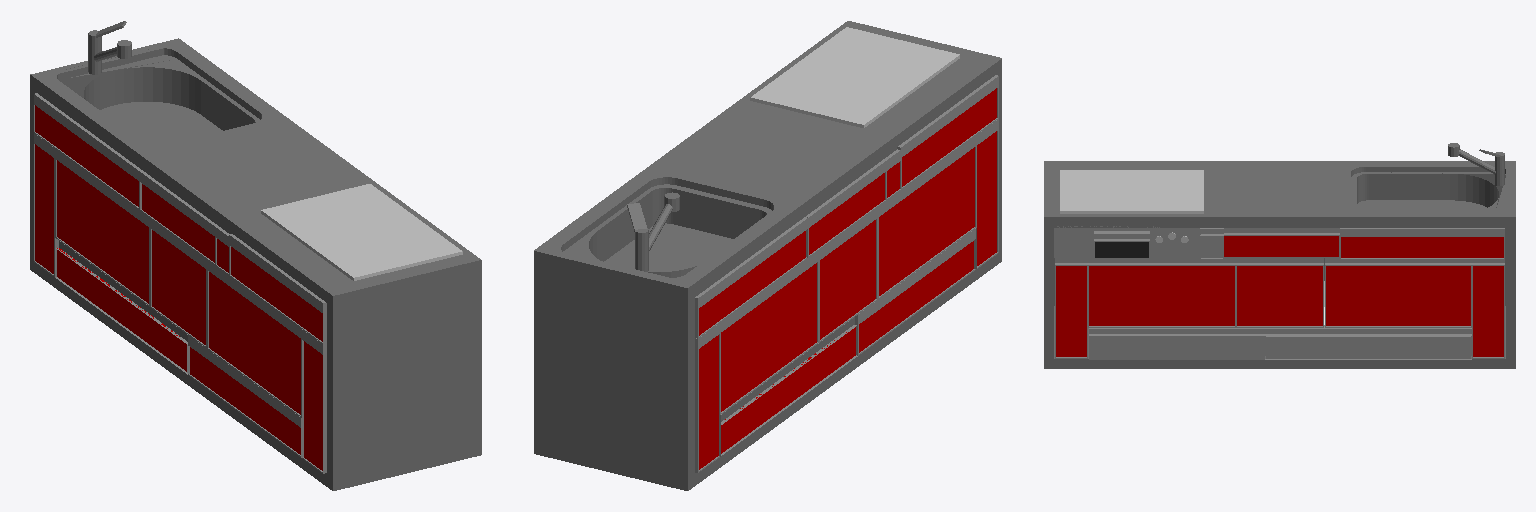
--- Render facts (derived) ---
3 views of the same robot in one strip: view 1: azimuth 30°, elevation 25°; view 2: azimuth 150°, elevation 25°; view 3: azimuth 270°, elevation 25° (orthographic).
Model room602-kitchen_fixed with 20 links and 19 joints (7 revolute, 11 prismatic, 1 fixed), rooted at world, posed all joints at 0.
Links seen in each view (by area): view 1: ROOT_link; view 2: ROOT_link, TAP-TUBE_link; view 3: ROOT_link, ROOM602-KITCHEN-BODYSET6_link, ROOM602-KITCHEN-BODYSET8_link, ROOM602-KITCHEN-BODYSET3_link, ROOM602-KITCHEN-BODYSET7_link, ROOM602-KITCHEN-BODYSET2_link, ROOM602-KITCHEN-BODYSET10_link, ROOM602-KITCHEN-BODYSET4_link, ROOM602-KITCHEN-BODYSET5_link, ROOM602-KITCHEN-BODYSET11_link, ROOM602-KITCHEN-BODYSET9_link.
Boxes of the visible links, left/top/right/bottom form: ROOT_link: left=30, top=30, right=481, bottom=490; ROOT_link: left=534, top=21, right=1001, bottom=490; TAP-TUBE_link: left=649, top=192, right=679, bottom=250; ROOT_link: left=1044, top=152, right=1515, bottom=368; ROOM602-KITCHEN-BODYSET6_link: left=1088, top=258, right=1235, bottom=327; ROOM602-KITCHEN-BODYSET8_link: left=1325, top=258, right=1471, bottom=327; ROOM602-KITCHEN-BODYSET3_link: left=1265, top=281, right=1471, bottom=359; ROOM602-KITCHEN-BODYSET7_link: left=1236, top=258, right=1323, bottom=327; ROOM602-KITCHEN-BODYSET2_link: left=1089, top=328, right=1264, bottom=359; ROOM602-KITCHEN-BODYSET10_link: left=1224, top=228, right=1339, bottom=257; ROOM602-KITCHEN-BODYSET4_link: left=1055, top=258, right=1087, bottom=358; ROOM602-KITCHEN-BODYSET5_link: left=1472, top=259, right=1504, bottom=358; ROOM602-KITCHEN-BODYSET11_link: left=1094, top=231, right=1149, bottom=260; ROOM602-KITCHEN-BODYSET9_link: left=1200, top=228, right=1223, bottom=258.
Bounding box of the posed robot: 0.71 × 2.4 × 1.07 m (x, y, z).
Meshes: 19 distinct files referenced, 19 mesh visuals loaded (19 Collada DAE).

URDF robot description (room602-kitchen_fixed):
<?xml version="1.0"?>
<robot name="room602-kitchen_fixed"
       xmlns:xi="http://www.w3.org/2001/XInclude"
       >
  <gazebo>
    <static>false</static>
  </gazebo>
  <link name="ROOT_link">
    <visual>
      <origin xyz="0 0 0" rpy="0 -0 0"/>
      <geometry>
        <mesh filename="model://room602-kitchen/meshes/ROOT_link_mesh.dae" scale="1 1 1" />
      </geometry>
    </visual>
    <collision>
      <origin xyz="0 0 0" rpy="0 -0 0"/>
      <geometry>
        <mesh filename="model://room602-kitchen/meshes/ROOT_link_mesh.dae" scale="1 1 1" />
      </geometry>
    </collision>
    <inertial>
      <mass value="0.001" />
      <origin xyz="0 0 0" rpy="0 -0 0"/>
      <inertia ixx="1e-03" ixy="0" ixz="0" iyy="1e-03" iyz="0" izz="1e-03"/>
    </inertial>
  </link>
  <gazebo reference="ROOT_link">
    <mu1>0.9</mu1>
    <mu2>0.9</mu2>
  </gazebo>
  <link name="ROOM602-KITCHEN-BODYSET16_link">
    <visual>
      <origin xyz="0.34 -0.485 0.73" rpy="0 -0 0"/>
      <geometry>
        <mesh filename="model://room602-kitchen/meshes/ROOM602-KITCHEN-BODYSET16_link_mesh.dae" scale="1 1 1" />
      </geometry>
    </visual>
    <collision>
      <origin xyz="0.34 -0.485 0.73" rpy="0 -0 0"/>
      <geometry>
        <mesh filename="model://room602-kitchen/meshes/ROOM602-KITCHEN-BODYSET16_link_mesh.dae" scale="1 1 1" />
      </geometry>
    </collision>
    <inertial>
      <mass value="0.001" />
      <origin xyz="0 0 0" rpy="0 -0 0"/>
      <inertia ixx="1e-03" ixy="0" ixz="0" iyy="1e-03" iyz="0" izz="1e-03"/>
    </inertial>
  </link>
  <gazebo reference="ROOM602-KITCHEN-BODYSET16_link">
    <mu1>0.9</mu1>
    <mu2>0.9</mu2>
  </gazebo>
  <link name="ROOM602-KITCHEN-BODYSET17_link">
    <visual>
      <origin xyz="0.005 0 0" rpy="1.5708 1.5708 -1.5708"/>
      <geometry>
        <mesh filename="model://room602-kitchen/meshes/ROOM602-KITCHEN-BODYSET17_link_mesh.dae" scale="1 1 1" />
      </geometry>
    </visual>
    <collision>
      <origin xyz="0.005 0 0" rpy="1.5708 1.5708 -1.5708"/>
      <geometry>
        <mesh filename="model://room602-kitchen/meshes/ROOM602-KITCHEN-BODYSET17_link_mesh.dae" scale="1 1 1" />
      </geometry>
    </collision>
    <inertial>
      <mass value="0.001" />
      <origin xyz="0 0 0" rpy="0 -0 0"/>
      <inertia ixx="1e-09" ixy="1.30938e-41" ixz="0" iyy="1e-09" iyz="-4.59177e-41" izz="1e-09"/>
    </inertial>
  </link>
  <gazebo reference="ROOM602-KITCHEN-BODYSET17_link">
    <mu1>0.9</mu1>
    <mu2>0.9</mu2>
  </gazebo>
  <link name="ROOM602-KITCHEN-BODYSET14_link">
    <visual>
      <origin xyz="0.34 -0.55 0.75" rpy="0 -0 0"/>
      <geometry>
        <mesh filename="model://room602-kitchen/meshes/ROOM602-KITCHEN-BODYSET14_link_mesh.dae" scale="1 1 1" />
      </geometry>
    </visual>
    <collision>
      <origin xyz="0.34 -0.55 0.75" rpy="0 -0 0"/>
      <geometry>
        <mesh filename="model://room602-kitchen/meshes/ROOM602-KITCHEN-BODYSET14_link_mesh.dae" scale="1 1 1" />
      </geometry>
    </collision>
    <inertial>
      <mass value="0.001" />
      <origin xyz="0 0 0" rpy="0 -0 0"/>
      <inertia ixx="1e-03" ixy="0" ixz="0" iyy="1e-03" iyz="0" izz="1e-03"/>
    </inertial>
  </link>
  <gazebo reference="ROOM602-KITCHEN-BODYSET14_link">
    <mu1>0.9</mu1>
    <mu2>0.9</mu2>
  </gazebo>
  <link name="ROOM602-KITCHEN-BODYSET15_link">
    <visual>
      <origin xyz="0.005 0 0" rpy="1.5708 1.5708 -1.5708"/>
      <geometry>
        <mesh filename="model://room602-kitchen/meshes/ROOM602-KITCHEN-BODYSET15_link_mesh.dae" scale="1 1 1" />
      </geometry>
    </visual>
    <collision>
      <origin xyz="0.005 0 0" rpy="1.5708 1.5708 -1.5708"/>
      <geometry>
        <mesh filename="model://room602-kitchen/meshes/ROOM602-KITCHEN-BODYSET15_link_mesh.dae" scale="1 1 1" />
      </geometry>
    </collision>
    <inertial>
      <mass value="0.001" />
      <origin xyz="0 0 0" rpy="0 -0 0"/>
      <inertia ixx="1e-09" ixy="1.30938e-41" ixz="0" iyy="1e-09" iyz="-4.59177e-41" izz="1e-09"/>
    </inertial>
  </link>
  <gazebo reference="ROOM602-KITCHEN-BODYSET15_link">
    <mu1>0.9</mu1>
    <mu2>0.9</mu2>
  </gazebo>
  <link name="ROOM602-KITCHEN-BODYSET12_link">
    <visual>
      <origin xyz="0.34 -0.615 0.73" rpy="0 -0 0"/>
      <geometry>
        <mesh filename="model://room602-kitchen/meshes/ROOM602-KITCHEN-BODYSET12_link_mesh.dae" scale="1 1 1" />
      </geometry>
    </visual>
    <collision>
      <origin xyz="0.34 -0.615 0.73" rpy="0 -0 0"/>
      <geometry>
        <mesh filename="model://room602-kitchen/meshes/ROOM602-KITCHEN-BODYSET12_link_mesh.dae" scale="1 1 1" />
      </geometry>
    </collision>
    <inertial>
      <mass value="0.001" />
      <origin xyz="0 0 0" rpy="0 -0 0"/>
      <inertia ixx="1e-03" ixy="0" ixz="0" iyy="1e-03" iyz="0" izz="1e-03"/>
    </inertial>
  </link>
  <gazebo reference="ROOM602-KITCHEN-BODYSET12_link">
    <mu1>0.9</mu1>
    <mu2>0.9</mu2>
  </gazebo>
  <link name="ROOM602-KITCHEN-BODYSET13_link">
    <visual>
      <origin xyz="0.005 0 0" rpy="1.5708 1.5708 -1.5708"/>
      <geometry>
        <mesh filename="model://room602-kitchen/meshes/ROOM602-KITCHEN-BODYSET13_link_mesh.dae" scale="1 1 1" />
      </geometry>
    </visual>
    <collision>
      <origin xyz="0.005 0 0" rpy="1.5708 1.5708 -1.5708"/>
      <geometry>
        <mesh filename="model://room602-kitchen/meshes/ROOM602-KITCHEN-BODYSET13_link_mesh.dae" scale="1 1 1" />
      </geometry>
    </collision>
    <inertial>
      <mass value="0.001" />
      <origin xyz="0 0 0" rpy="0 -0 0"/>
      <inertia ixx="1e-09" ixy="1.30938e-41" ixz="0" iyy="1e-09" iyz="-4.59177e-41" izz="1e-09"/>
    </inertial>
  </link>
  <gazebo reference="ROOM602-KITCHEN-BODYSET13_link">
    <mu1>0.9</mu1>
    <mu2>0.9</mu2>
  </gazebo>
  <link name="ROOM602-KITCHEN-BODYSET7_link">
    <visual>
      <origin xyz="0.025 0.001 0.405" rpy="0 -0 0"/>
      <geometry>
        <mesh filename="model://room602-kitchen/meshes/ROOM602-KITCHEN-BODYSET7_link_mesh.dae" scale="1 1 1" />
      </geometry>
    </visual>
    <collision>
      <origin xyz="0.025 0.001 0.405" rpy="0 -0 0"/>
      <geometry>
        <mesh filename="model://room602-kitchen/meshes/ROOM602-KITCHEN-BODYSET7_link_mesh.dae" scale="1 1 1" />
      </geometry>
    </collision>
    <inertial>
      <mass value="0.001" />
      <origin xyz="0 0 0" rpy="0 -0 0"/>
      <inertia ixx="1e-03" ixy="0" ixz="0" iyy="1e-03" iyz="0" izz="1e-03"/>
    </inertial>
  </link>
  <gazebo reference="ROOM602-KITCHEN-BODYSET7_link">
    <mu1>0.9</mu1>
    <mu2>0.9</mu2>
  </gazebo>
  <link name="ROOM602-KITCHEN-BODYSET10_link">
    <visual>
      <origin xyz="0.025 0.006 0.685" rpy="0 -0 0"/>
      <geometry>
        <mesh filename="model://room602-kitchen/meshes/ROOM602-KITCHEN-BODYSET10_link_mesh.dae" scale="1 1 1" />
      </geometry>
    </visual>
    <collision>
      <origin xyz="0.025 0.006 0.685" rpy="0 -0 0"/>
      <geometry>
        <mesh filename="model://room602-kitchen/meshes/ROOM602-KITCHEN-BODYSET10_link_mesh.dae" scale="1 1 1" />
      </geometry>
    </collision>
    <inertial>
      <mass value="0.001" />
      <origin xyz="0 0 0" rpy="0 -0 0"/>
      <inertia ixx="1e-03" ixy="0" ixz="0" iyy="1e-03" iyz="0" izz="1e-03"/>
    </inertial>
  </link>
  <gazebo reference="ROOM602-KITCHEN-BODYSET10_link">
    <mu1>0.9</mu1>
    <mu2>0.9</mu2>
  </gazebo>
  <link name="ROOM602-KITCHEN-BODYSET11_link">
    <visual>
      <origin xyz="0.025 -0.805 0.66" rpy="0 -0 0"/>
      <geometry>
        <mesh filename="model://room602-kitchen/meshes/ROOM602-KITCHEN-BODYSET11_link_mesh.dae" scale="1 1 1" />
      </geometry>
    </visual>
    <collision>
      <origin xyz="0.025 -0.805 0.66" rpy="0 -0 0"/>
      <geometry>
        <mesh filename="model://room602-kitchen/meshes/ROOM602-KITCHEN-BODYSET11_link_mesh.dae" scale="1 1 1" />
      </geometry>
    </collision>
    <inertial>
      <mass value="0.001" />
      <origin xyz="0 0 0" rpy="0 -0 0"/>
      <inertia ixx="1e-03" ixy="0" ixz="0" iyy="1e-03" iyz="0" izz="1e-03"/>
    </inertial>
  </link>
  <gazebo reference="ROOM602-KITCHEN-BODYSET11_link">
    <mu1>0.9</mu1>
    <mu2>0.9</mu2>
  </gazebo>
  <link name="ROOM602-KITCHEN-BODYSET2_link">
    <visual>
      <origin xyz="0.025 -0.524 0.137" rpy="0 -0 0"/>
      <geometry>
        <mesh filename="model://room602-kitchen/meshes/ROOM602-KITCHEN-BODYSET2_link_mesh.dae" scale="1 1 1" />
      </geometry>
    </visual>
    <collision>
      <origin xyz="0.025 -0.524 0.137" rpy="0 -0 0"/>
      <geometry>
        <mesh filename="model://room602-kitchen/meshes/ROOM602-KITCHEN-BODYSET2_link_mesh.dae" scale="1 1 1" />
      </geometry>
    </collision>
    <inertial>
      <mass value="0.001" />
      <origin xyz="0 0 0" rpy="0 -0 0"/>
      <inertia ixx="1e-03" ixy="0" ixz="0" iyy="1e-03" iyz="0" izz="1e-03"/>
    </inertial>
  </link>
  <gazebo reference="ROOM602-KITCHEN-BODYSET2_link">
    <mu1>0.9</mu1>
    <mu2>0.9</mu2>
  </gazebo>
  <link name="ROOM602-KITCHEN-BODYSET6_link">
    <visual>
      <origin xyz="0.025 -0.601 0.405" rpy="0 -0 0"/>
      <geometry>
        <mesh filename="model://room602-kitchen/meshes/ROOM602-KITCHEN-BODYSET6_link_mesh.dae" scale="1 1 1" />
      </geometry>
    </visual>
    <collision>
      <origin xyz="0.025 -0.601 0.405" rpy="0 -0 0"/>
      <geometry>
        <mesh filename="model://room602-kitchen/meshes/ROOM602-KITCHEN-BODYSET6_link_mesh.dae" scale="1 1 1" />
      </geometry>
    </collision>
    <inertial>
      <mass value="0.001" />
      <origin xyz="0 0 0" rpy="0 -0 0"/>
      <inertia ixx="1e-03" ixy="0" ixz="0" iyy="1e-03" iyz="0" izz="1e-03"/>
    </inertial>
  </link>
  <gazebo reference="ROOM602-KITCHEN-BODYSET6_link">
    <mu1>0.9</mu1>
    <mu2>0.9</mu2>
  </gazebo>
  <link name="ROOM602-KITCHEN-BODYSET4_link">
    <visual>
      <origin xyz="0.315 -1.123 0.06" rpy="0 -0 0"/>
      <geometry>
        <mesh filename="model://room602-kitchen/meshes/ROOM602-KITCHEN-BODYSET4_link_mesh.dae" scale="1 1 1" />
      </geometry>
    </visual>
    <collision>
      <origin xyz="0.315 -1.123 0.06" rpy="0 -0 0"/>
      <geometry>
        <mesh filename="model://room602-kitchen/meshes/ROOM602-KITCHEN-BODYSET4_link_mesh.dae" scale="1 1 1" />
      </geometry>
    </collision>
    <inertial>
      <mass value="0.001" />
      <origin xyz="0 0 0" rpy="0 -0 0"/>
      <inertia ixx="1e-03" ixy="0" ixz="0" iyy="1e-03" iyz="0" izz="1e-03"/>
    </inertial>
  </link>
  <gazebo reference="ROOM602-KITCHEN-BODYSET4_link">
    <mu1>0.9</mu1>
    <mu2>0.9</mu2>
  </gazebo>
  <link name="ROOM602-KITCHEN-BODYSET9_link">
    <visual>
      <origin xyz="0.025 -0.346 0.7" rpy="0 -0 0"/>
      <geometry>
        <mesh filename="model://room602-kitchen/meshes/ROOM602-KITCHEN-BODYSET9_link_mesh.dae" scale="1 1 1" />
      </geometry>
    </visual>
    <collision>
      <origin xyz="0.025 -0.346 0.7" rpy="0 -0 0"/>
      <geometry>
        <mesh filename="model://room602-kitchen/meshes/ROOM602-KITCHEN-BODYSET9_link_mesh.dae" scale="1 1 1" />
      </geometry>
    </collision>
    <inertial>
      <mass value="0.001" />
      <origin xyz="0 0 0" rpy="0 -0 0"/>
      <inertia ixx="1e-03" ixy="0" ixz="0" iyy="1e-03" iyz="0" izz="1e-03"/>
    </inertial>
  </link>
  <gazebo reference="ROOM602-KITCHEN-BODYSET9_link">
    <mu1>0.9</mu1>
    <mu2>0.9</mu2>
  </gazebo>
  <link name="ROOM602-KITCHEN-BODYSET3_link">
    <visual>
      <origin xyz="0.025 0.451 0.137" rpy="0 -0 0"/>
      <geometry>
        <mesh filename="model://room602-kitchen/meshes/ROOM602-KITCHEN-BODYSET3_link_mesh.dae" scale="1 1 1" />
      </geometry>
    </visual>
    <collision>
      <origin xyz="0.025 0.451 0.137" rpy="0 -0 0"/>
      <geometry>
        <mesh filename="model://room602-kitchen/meshes/ROOM602-KITCHEN-BODYSET3_link_mesh.dae" scale="1 1 1" />
      </geometry>
    </collision>
    <inertial>
      <mass value="0.001" />
      <origin xyz="0 0 0" rpy="0 -0 0"/>
      <inertia ixx="1e-03" ixy="0" ixz="0" iyy="1e-03" iyz="0" izz="1e-03"/>
    </inertial>
  </link>
  <gazebo reference="ROOM602-KITCHEN-BODYSET3_link">
    <mu1>0.9</mu1>
    <mu2>0.9</mu2>
  </gazebo>
  <link name="ROOM602-KITCHEN-BODYSET8_link">
    <visual>
      <origin xyz="0.025 0.603 0.405" rpy="0 -0 0"/>
      <geometry>
        <mesh filename="model://room602-kitchen/meshes/ROOM602-KITCHEN-BODYSET8_link_mesh.dae" scale="1 1 1" />
      </geometry>
    </visual>
    <collision>
      <origin xyz="0.025 0.603 0.405" rpy="0 -0 0"/>
      <geometry>
        <mesh filename="model://room602-kitchen/meshes/ROOM602-KITCHEN-BODYSET8_link_mesh.dae" scale="1 1 1" />
      </geometry>
    </collision>
    <inertial>
      <mass value="0.001" />
      <origin xyz="0 0 0" rpy="0 -0 0"/>
      <inertia ixx="1e-03" ixy="0" ixz="0" iyy="1e-03" iyz="0" izz="1e-03"/>
    </inertial>
  </link>
  <gazebo reference="ROOM602-KITCHEN-BODYSET8_link">
    <mu1>0.9</mu1>
    <mu2>0.9</mu2>
  </gazebo>
  <link name="ROOM602-KITCHEN-BODYSET5_link">
    <visual>
      <origin xyz="0.315 1.123 0.06" rpy="0 -0 0"/>
      <geometry>
        <mesh filename="model://room602-kitchen/meshes/ROOM602-KITCHEN-BODYSET5_link_mesh.dae" scale="1 1 1" />
      </geometry>
    </visual>
    <collision>
      <origin xyz="0.315 1.123 0.06" rpy="0 -0 0"/>
      <geometry>
        <mesh filename="model://room602-kitchen/meshes/ROOM602-KITCHEN-BODYSET5_link_mesh.dae" scale="1 1 1" />
      </geometry>
    </collision>
    <inertial>
      <mass value="0.001" />
      <origin xyz="0 0 0" rpy="0 -0 0"/>
      <inertia ixx="1e-03" ixy="0" ixz="0" iyy="1e-03" iyz="0" izz="1e-03"/>
    </inertial>
  </link>
  <gazebo reference="ROOM602-KITCHEN-BODYSET5_link">
    <mu1>0.9</mu1>
    <mu2>0.9</mu2>
  </gazebo>
  <link name="TAP-HANDLE-BODY_link">
    <visual>
      <origin xyz="-0.0826664 1.11267 1.00531" rpy="1.26878e-07 -0.488693 -0.785399"/>
      <geometry>
        <mesh filename="model://room602-kitchen/meshes/TAP-HANDLE-BODY_link_mesh.dae" scale="1 1 1" />
      </geometry>
    </visual>
    <collision>
      <origin xyz="-0.0826664 1.11267 1.00531" rpy="1.26878e-07 -0.488693 -0.785399"/>
      <geometry>
        <mesh filename="model://room602-kitchen/meshes/TAP-HANDLE-BODY_link_mesh.dae" scale="1 1 1" />
      </geometry>
    </collision>
    <inertial>
      <mass value="0.001" />
      <origin xyz="0 0 0" rpy="0 -0 0"/>
      <inertia ixx="1e-09" ixy="-1.40233e-32" ixz="0" iyy="1e-09" iyz="-9.86076e-32" izz="1e-09"/>
    </inertial>
  </link>
  <gazebo reference="TAP-HANDLE-BODY_link">
    <mu1>0.9</mu1>
    <mu2>0.9</mu2>
  </gazebo>
  <link name="TAP-TUBE_link">
    <visual>
      <origin xyz="-0.09 1.12 0.84" rpy="0 0 -1.5708"/>
      <geometry>
        <mesh filename="model://room602-kitchen/meshes/TAP-TUBE_link_mesh.dae" scale="1 1 1" />
      </geometry>
    </visual>
    <collision>
      <origin xyz="-0.09 1.12 0.84" rpy="0 0 -1.5708"/>
      <geometry>
        <mesh filename="model://room602-kitchen/meshes/TAP-TUBE_link_mesh.dae" scale="1 1 1" />
      </geometry>
    </collision>
    <inertial>
      <mass value="0.001" />
      <origin xyz="0 0 0" rpy="0 -0 0"/>
      <inertia ixx="1e-09" ixy="-7.4988e-42" ixz="0" iyy="1e-09" iyz="0" izz="1e-09"/>
    </inertial>
  </link>
  <gazebo reference="TAP-TUBE_link">
    <mu1>0.9</mu1>
    <mu2>0.9</mu2>
  </gazebo>
  <joint name="BUTTON0-BODY-JOINT-1" type="prismatic">
    <parent link="ROOT_link"/>
    <child  link="ROOM602-KITCHEN-BODYSET16_link"/>
    <origin xyz="0.34 -0.485 0.73" rpy="0 -0 0 "/>
    <axis   xyz="1 0 0"/>
    <limit lower="-0.09" upper="0.09" effort="100" velocity="0.01" />
    <dynamics damping="0.2" friction="0" />
  </joint>
  <transmission type="pr2_mechanism_model/SimpleTransmission" name="BUTTON0-BODY-JOINT-1_trans" >
    <actuator name="BUTTON0-BODY-JOINT-1_motor" />
    <joint name="BUTTON0-BODY-JOINT-1" />
    <mechanicalReduction>1</mechanicalReduction>
  </transmission>
  <gazebo reference="BUTTON0-BODY-JOINT-1">
    <cfmDamping>0.4</cfmDamping>
  </gazebo>
  <joint name="BUTTON0-BODY-JOINT-2" type="revolute">
    <parent link="ROOM602-KITCHEN-BODYSET16_link"/>
    <child  link="ROOM602-KITCHEN-BODYSET17_link"/>
    <origin xyz="0.005 0 0" rpy="1.5708 1.5708 -1.5708 "/>
    <axis   xyz="0 0 1"/>
    <limit lower="-1.5708" upper="1.5708" effort="100" velocity="0.5" />
    <dynamics damping="0.2" friction="0" />
  </joint>
  <transmission type="pr2_mechanism_model/SimpleTransmission" name="BUTTON0-BODY-JOINT-2_trans" >
    <actuator name="BUTTON0-BODY-JOINT-2_motor" />
    <joint name="BUTTON0-BODY-JOINT-2" />
    <mechanicalReduction>1</mechanicalReduction>
  </transmission>
  <gazebo reference="BUTTON0-BODY-JOINT-2">
    <cfmDamping>0.4</cfmDamping>
  </gazebo>
  <joint name="BUTTON1-BODY-JOINT-1" type="prismatic">
    <parent link="ROOT_link"/>
    <child  link="ROOM602-KITCHEN-BODYSET14_link"/>
    <origin xyz="0.34 -0.55 0.75" rpy="0 -0 0 "/>
    <axis   xyz="1 0 0"/>
    <limit lower="-0.09" upper="0.09" effort="100" velocity="0.01" />
    <dynamics damping="0.2" friction="0" />
  </joint>
  <transmission type="pr2_mechanism_model/SimpleTransmission" name="BUTTON1-BODY-JOINT-1_trans" >
    <actuator name="BUTTON1-BODY-JOINT-1_motor" />
    <joint name="BUTTON1-BODY-JOINT-1" />
    <mechanicalReduction>1</mechanicalReduction>
  </transmission>
  <gazebo reference="BUTTON1-BODY-JOINT-1">
    <cfmDamping>0.4</cfmDamping>
  </gazebo>
  <joint name="BUTTON1-BODY-JOINT-2" type="revolute">
    <parent link="ROOM602-KITCHEN-BODYSET14_link"/>
    <child  link="ROOM602-KITCHEN-BODYSET15_link"/>
    <origin xyz="0.005 0 0" rpy="1.5708 1.5708 -1.5708 "/>
    <axis   xyz="0 0 1"/>
    <limit lower="-1.5708" upper="1.5708" effort="100" velocity="0.5" />
    <dynamics damping="0.2" friction="0" />
  </joint>
  <transmission type="pr2_mechanism_model/SimpleTransmission" name="BUTTON1-BODY-JOINT-2_trans" >
    <actuator name="BUTTON1-BODY-JOINT-2_motor" />
    <joint name="BUTTON1-BODY-JOINT-2" />
    <mechanicalReduction>1</mechanicalReduction>
  </transmission>
  <gazebo reference="BUTTON1-BODY-JOINT-2">
    <cfmDamping>0.4</cfmDamping>
  </gazebo>
  <joint name="BUTTON2-BODY-JOINT-1" type="prismatic">
    <parent link="ROOT_link"/>
    <child  link="ROOM602-KITCHEN-BODYSET12_link"/>
    <origin xyz="0.34 -0.615 0.73" rpy="0 -0 0 "/>
    <axis   xyz="1 0 0"/>
    <limit lower="-0.09" upper="0.09" effort="100" velocity="0.01" />
    <dynamics damping="0.2" friction="0" />
  </joint>
  <transmission type="pr2_mechanism_model/SimpleTransmission" name="BUTTON2-BODY-JOINT-1_trans" >
    <actuator name="BUTTON2-BODY-JOINT-1_motor" />
    <joint name="BUTTON2-BODY-JOINT-1" />
    <mechanicalReduction>1</mechanicalReduction>
  </transmission>
  <gazebo reference="BUTTON2-BODY-JOINT-1">
    <cfmDamping>0.4</cfmDamping>
  </gazebo>
  <joint name="BUTTON2-BODY-JOINT-2" type="revolute">
    <parent link="ROOM602-KITCHEN-BODYSET12_link"/>
    <child  link="ROOM602-KITCHEN-BODYSET13_link"/>
    <origin xyz="0.005 0 0" rpy="1.5708 1.5708 -1.5708 "/>
    <axis   xyz="0 0 1"/>
    <limit lower="-1.5708" upper="1.5708" effort="100" velocity="0.5" />
    <dynamics damping="0.2" friction="0" />
  </joint>
  <transmission type="pr2_mechanism_model/SimpleTransmission" name="BUTTON2-BODY-JOINT-2_trans" >
    <actuator name="BUTTON2-BODY-JOINT-2_motor" />
    <joint name="BUTTON2-BODY-JOINT-2" />
    <mechanicalReduction>1</mechanicalReduction>
  </transmission>
  <gazebo reference="BUTTON2-BODY-JOINT-2">
    <cfmDamping>0.4</cfmDamping>
  </gazebo>
  <joint name="CENTER-MIDDLE-DRAWER" type="prismatic">
    <parent link="ROOT_link"/>
    <child  link="ROOM602-KITCHEN-BODYSET7_link"/>
    <origin xyz="0.025 0.001 0.405" rpy="0 -0 0 "/>
    <axis   xyz="1 0 0"/>
    <limit lower="0" upper="0.63" effort="100" velocity="0.01" />
    <dynamics damping="0.2" friction="0" />
  </joint>
  <transmission type="pr2_mechanism_model/SimpleTransmission" name="CENTER-MIDDLE-DRAWER_trans" >
    <actuator name="CENTER-MIDDLE-DRAWER_motor" />
    <joint name="CENTER-MIDDLE-DRAWER" />
    <mechanicalReduction>1</mechanicalReduction>
  </transmission>
  <gazebo reference="CENTER-MIDDLE-DRAWER">
    <cfmDamping>0.4</cfmDamping>
  </gazebo>
  <joint name="CENTER-TOP-DRAWER" type="prismatic">
    <parent link="ROOT_link"/>
    <child  link="ROOM602-KITCHEN-BODYSET10_link"/>
    <origin xyz="0.025 0.006 0.685" rpy="0 -0 0 "/>
    <axis   xyz="1 0 0"/>
    <limit lower="0" upper="0.63" effort="100" velocity="0.01" />
    <dynamics damping="0.2" friction="0" />
  </joint>
  <transmission type="pr2_mechanism_model/SimpleTransmission" name="CENTER-TOP-DRAWER_trans" >
    <actuator name="CENTER-TOP-DRAWER_motor" />
    <joint name="CENTER-TOP-DRAWER" />
    <mechanicalReduction>1</mechanicalReduction>
  </transmission>
  <gazebo reference="CENTER-TOP-DRAWER">
    <cfmDamping>0.4</cfmDamping>
  </gazebo>
  <joint name="DRAWER" type="prismatic">
    <parent link="ROOT_link"/>
    <child  link="ROOM602-KITCHEN-BODYSET11_link"/>
    <origin xyz="0.025 -0.805 0.66" rpy="0 -0 0 "/>
    <axis   xyz="1 0 0"/>
    <limit lower="0" upper="0.63" effort="100" velocity="0.01" />
    <dynamics damping="0.2" friction="0" />
  </joint>
  <transmission type="pr2_mechanism_model/SimpleTransmission" name="DRAWER_trans" >
    <actuator name="DRAWER_motor" />
    <joint name="DRAWER" />
    <mechanicalReduction>1</mechanicalReduction>
  </transmission>
  <gazebo reference="DRAWER">
    <cfmDamping>0.4</cfmDamping>
  </gazebo>
  <joint name="LEFT-BOTTOM-DRAWER" type="prismatic">
    <parent link="ROOT_link"/>
    <child  link="ROOM602-KITCHEN-BODYSET2_link"/>
    <origin xyz="0.025 -0.524 0.137" rpy="0 -0 0 "/>
    <axis   xyz="1 0 0"/>
    <limit lower="0" upper="0.63" effort="100" velocity="0.01" />
    <dynamics damping="0.2" friction="0" />
  </joint>
  <transmission type="pr2_mechanism_model/SimpleTransmission" name="LEFT-BOTTOM-DRAWER_trans" >
    <actuator name="LEFT-BOTTOM-DRAWER_motor" />
    <joint name="LEFT-BOTTOM-DRAWER" />
    <mechanicalReduction>1</mechanicalReduction>
  </transmission>
  <gazebo reference="LEFT-BOTTOM-DRAWER">
    <cfmDamping>0.4</cfmDamping>
  </gazebo>
  <joint name="LEFT-MIDDLE-DRAWER" type="prismatic">
    <parent link="ROOT_link"/>
    <child  link="ROOM602-KITCHEN-BODYSET6_link"/>
    <origin xyz="0.025 -0.601 0.405" rpy="0 -0 0 "/>
    <axis   xyz="1 0 0"/>
    <limit lower="0" upper="0.63" effort="100" velocity="0.01" />
    <dynamics damping="0.2" friction="0" />
  </joint>
  <transmission type="pr2_mechanism_model/SimpleTransmission" name="LEFT-MIDDLE-DRAWER_trans" >
    <actuator name="LEFT-MIDDLE-DRAWER_motor" />
    <joint name="LEFT-MIDDLE-DRAWER" />
    <mechanicalReduction>1</mechanicalReduction>
  </transmission>
  <gazebo reference="LEFT-MIDDLE-DRAWER">
    <cfmDamping>0.4</cfmDamping>
  </gazebo>
  <joint name="LEFT-SIDE-DOOR" type="revolute">
    <parent link="ROOT_link"/>
    <child  link="ROOM602-KITCHEN-BODYSET4_link"/>
    <origin xyz="0.315 -1.123 0.06" rpy="0 -0 0 "/>
    <axis   xyz="0 0 -1"/>
    <limit lower="0" upper="1.5708" effort="100" velocity="0.5" />
    <dynamics damping="0.2" friction="0" />
  </joint>
  <transmission type="pr2_mechanism_model/SimpleTransmission" name="LEFT-SIDE-DOOR_trans" >
    <actuator name="LEFT-SIDE-DOOR_motor" />
    <joint name="LEFT-SIDE-DOOR" />
    <mechanicalReduction>1</mechanicalReduction>
  </transmission>
  <gazebo reference="LEFT-SIDE-DOOR">
    <cfmDamping>0.4</cfmDamping>
  </gazebo>
  <joint name="LEFT-TOP-DRAWER" type="prismatic">
    <parent link="ROOT_link"/>
    <child  link="ROOM602-KITCHEN-BODYSET9_link"/>
    <origin xyz="0.025 -0.346 0.7" rpy="0 -0 0 "/>
    <axis   xyz="1 0 0"/>
    <limit lower="0" upper="0.63" effort="100" velocity="0.01" />
    <dynamics damping="0.2" friction="0" />
  </joint>
  <transmission type="pr2_mechanism_model/SimpleTransmission" name="LEFT-TOP-DRAWER_trans" >
    <actuator name="LEFT-TOP-DRAWER_motor" />
    <joint name="LEFT-TOP-DRAWER" />
    <mechanicalReduction>1</mechanicalReduction>
  </transmission>
  <gazebo reference="LEFT-TOP-DRAWER">
    <cfmDamping>0.4</cfmDamping>
  </gazebo>
  <joint name="RIGHT-BOTTOM-DRAWER" type="prismatic">
    <parent link="ROOT_link"/>
    <child  link="ROOM602-KITCHEN-BODYSET3_link"/>
    <origin xyz="0.025 0.451 0.137" rpy="0 -0 0 "/>
    <axis   xyz="1 0 0"/>
    <limit lower="0" upper="0.63" effort="100" velocity="0.01" />
    <dynamics damping="0.2" friction="0" />
  </joint>
  <transmission type="pr2_mechanism_model/SimpleTransmission" name="RIGHT-BOTTOM-DRAWER_trans" >
    <actuator name="RIGHT-BOTTOM-DRAWER_motor" />
    <joint name="RIGHT-BOTTOM-DRAWER" />
    <mechanicalReduction>1</mechanicalReduction>
  </transmission>
  <gazebo reference="RIGHT-BOTTOM-DRAWER">
    <cfmDamping>0.4</cfmDamping>
  </gazebo>
  <joint name="RIGHT-MIDDLE-DRAWER" type="prismatic">
    <parent link="ROOT_link"/>
    <child  link="ROOM602-KITCHEN-BODYSET8_link"/>
    <origin xyz="0.025 0.603 0.405" rpy="0 -0 0 "/>
    <axis   xyz="1 0 0"/>
    <limit lower="0" upper="0.63" effort="100" velocity="0.01" />
    <dynamics damping="0.2" friction="0" />
  </joint>
  <transmission type="pr2_mechanism_model/SimpleTransmission" name="RIGHT-MIDDLE-DRAWER_trans" >
    <actuator name="RIGHT-MIDDLE-DRAWER_motor" />
    <joint name="RIGHT-MIDDLE-DRAWER" />
    <mechanicalReduction>1</mechanicalReduction>
  </transmission>
  <gazebo reference="RIGHT-MIDDLE-DRAWER">
    <cfmDamping>0.4</cfmDamping>
  </gazebo>
  <joint name="RIGHT-SIDE-DOOR" type="revolute">
    <parent link="ROOT_link"/>
    <child  link="ROOM602-KITCHEN-BODYSET5_link"/>
    <origin xyz="0.315 1.123 0.06" rpy="0 -0 0 "/>
    <axis   xyz="0 0 1"/>
    <limit lower="0" upper="1.5708" effort="100" velocity="0.5" />
    <dynamics damping="0.2" friction="0" />
  </joint>
  <transmission type="pr2_mechanism_model/SimpleTransmission" name="RIGHT-SIDE-DOOR_trans" >
    <actuator name="RIGHT-SIDE-DOOR_motor" />
    <joint name="RIGHT-SIDE-DOOR" />
    <mechanicalReduction>1</mechanicalReduction>
  </transmission>
  <gazebo reference="RIGHT-SIDE-DOOR">
    <cfmDamping>0.4</cfmDamping>
  </gazebo>
  <joint name="TAP-HANDLE-JOINT" type="revolute">
    <parent link="ROOT_link"/>
    <child  link="TAP-HANDLE-BODY_link"/>
    <origin xyz="-0.0826664 1.11267 1.00531" rpy="1.26878e-07 -0.488693 -0.785399 "/>
    <axis   xyz="0 1 0"/>
    <limit lower="-1.5708" upper="1.5708" effort="100" velocity="0.5" />
    <dynamics damping="0.2" friction="0" />
  </joint>
  <transmission type="pr2_mechanism_model/SimpleTransmission" name="TAP-HANDLE-JOINT_trans" >
    <actuator name="TAP-HANDLE-JOINT_motor" />
    <joint name="TAP-HANDLE-JOINT" />
    <mechanicalReduction>1</mechanicalReduction>
  </transmission>
  <gazebo reference="TAP-HANDLE-JOINT">
    <cfmDamping>0.4</cfmDamping>
  </gazebo>
  <joint name="TAP-TUBE-JOINT" type="revolute">
    <parent link="ROOT_link"/>
    <child  link="TAP-TUBE_link"/>
    <origin xyz="-0.09 1.12 0.84" rpy="0 0 -1.5708 "/>
    <axis   xyz="0 0 1"/>
    <limit lower="-1.5708" upper="1.5708" effort="100" velocity="0.5" />
    <dynamics damping="0.2" friction="0" />
  </joint>
  <transmission type="pr2_mechanism_model/SimpleTransmission" name="TAP-TUBE-JOINT_trans" >
    <actuator name="TAP-TUBE-JOINT_motor" />
    <joint name="TAP-TUBE-JOINT" />
    <mechanicalReduction>1</mechanicalReduction>
  </transmission>
  <gazebo reference="TAP-TUBE-JOINT">
    <cfmDamping>0.4</cfmDamping>
  </gazebo>
  <!-- Used for fixing robot to Gazebo 'base_link' -->
  <link name="world"/>
  <joint name="fixed" type="fixed">
    <parent link="world"/>
    <child link="ROOT_link"/>
  </joint>
</robot>
